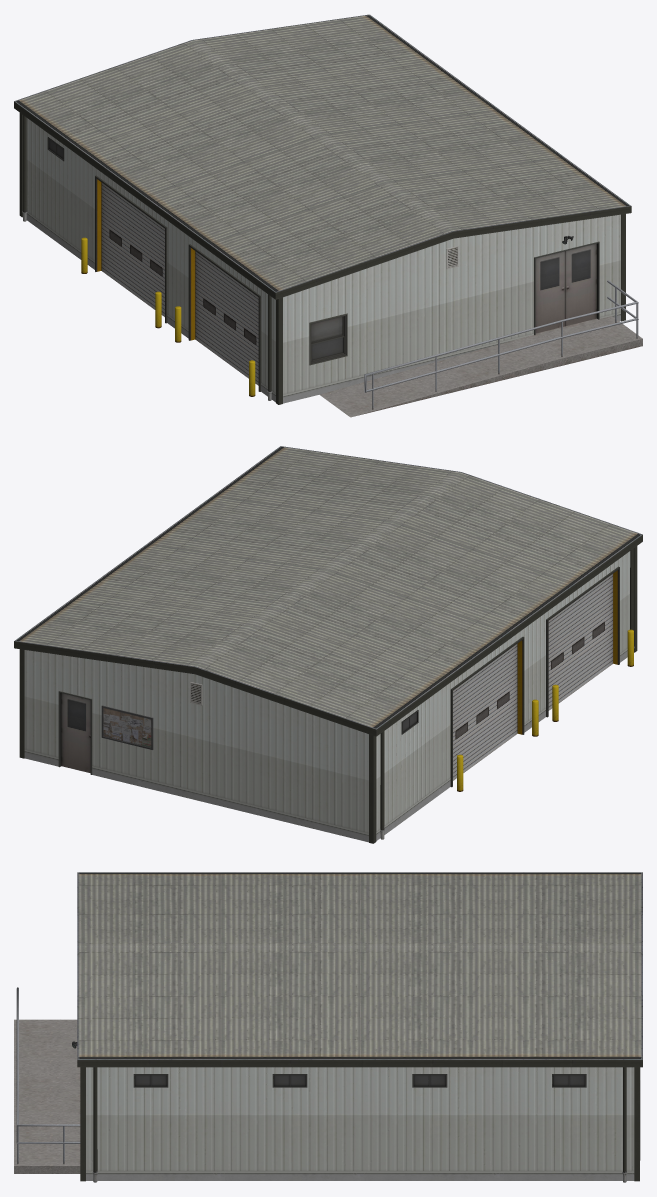
3 views of the same model, one above another, from view 1: azimuth 30°, elevation 25°; view 2: azimuth 150°, elevation 25°; view 3: azimuth 270°, elevation 25° (orthographic). The views are drawn at different scales.
Parts seen in each view (by area): view 1: 厂房_005; view 2: 厂房_005; view 3: 厂房_005.
Part boxes in pixels (<box>): 厂房_005: <box>14,14,642,417</box>; 厂房_005: <box>14,446,642,843</box>; 厂房_005: <box>14,872,642,1182</box>.
Size of the model in its own units: 12.6 by 4.37 by 17.44.
1 material, 1 textured.
